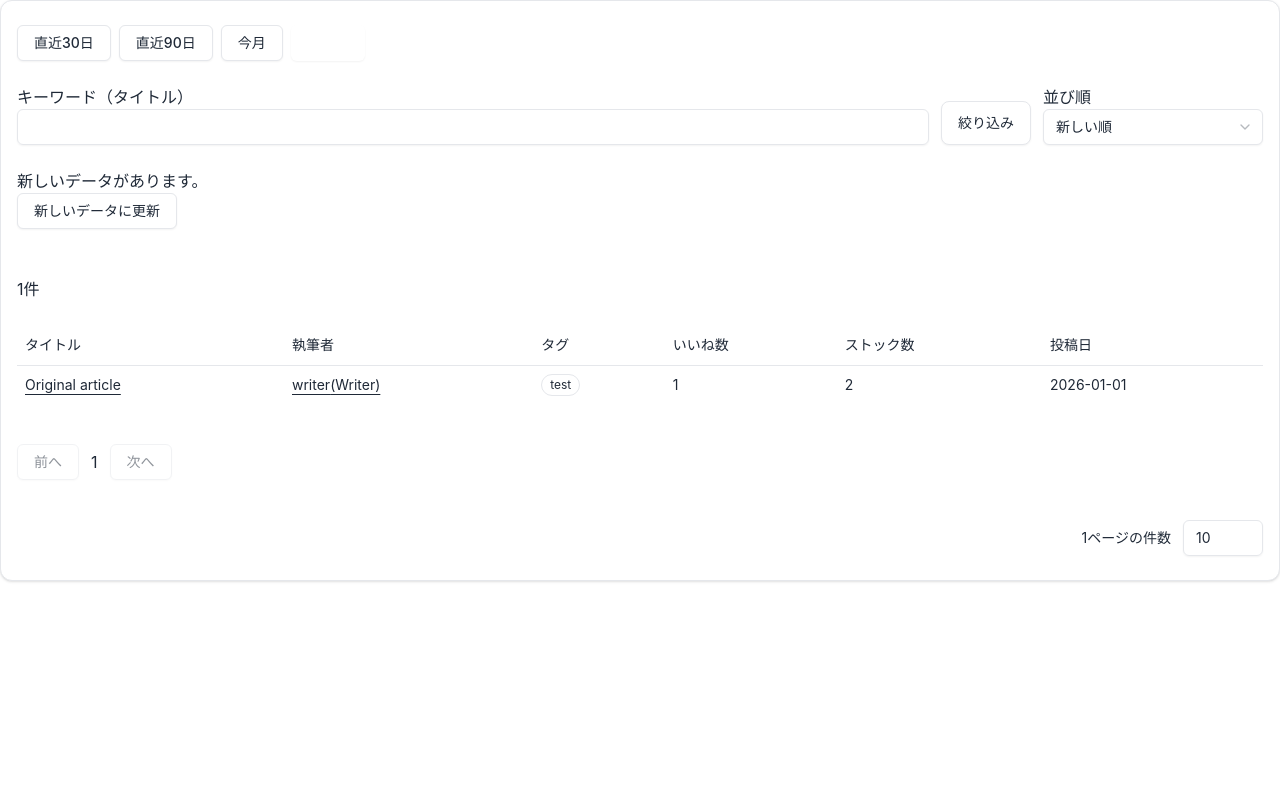
Test: retains the adopted results when an explicit refetch fails
The width and height of the screenshot is (1280, 800).
Click the button "新しいデータに更新": [97, 211] box [17, 193, 177, 229]
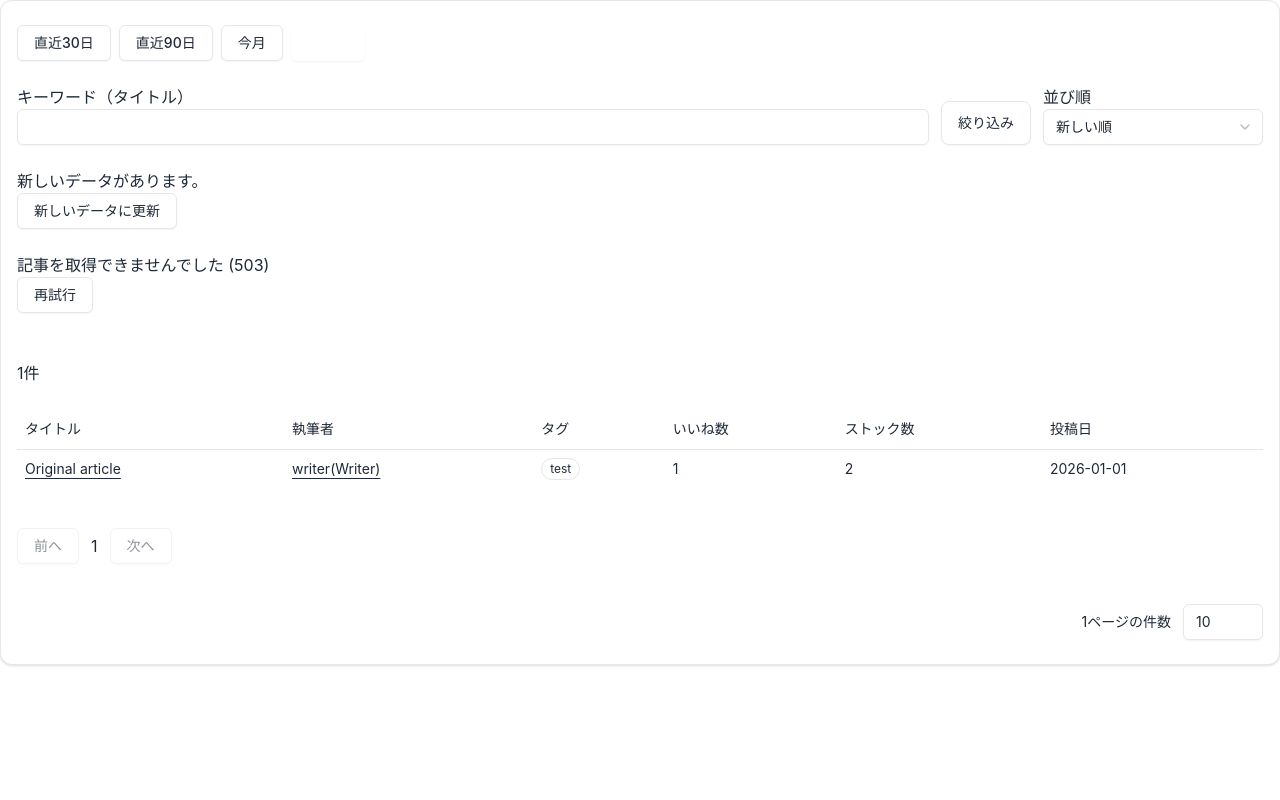
Check: the text "Original article" is shown, box [25, 460, 121, 476]
Check: the text "再試行" is shown, box [17, 277, 93, 313]
